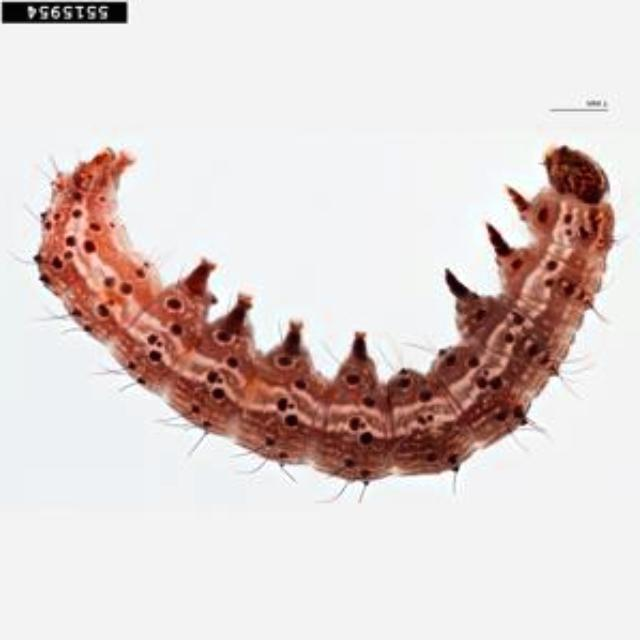Cotton bollworm: (21, 118, 625, 522)
